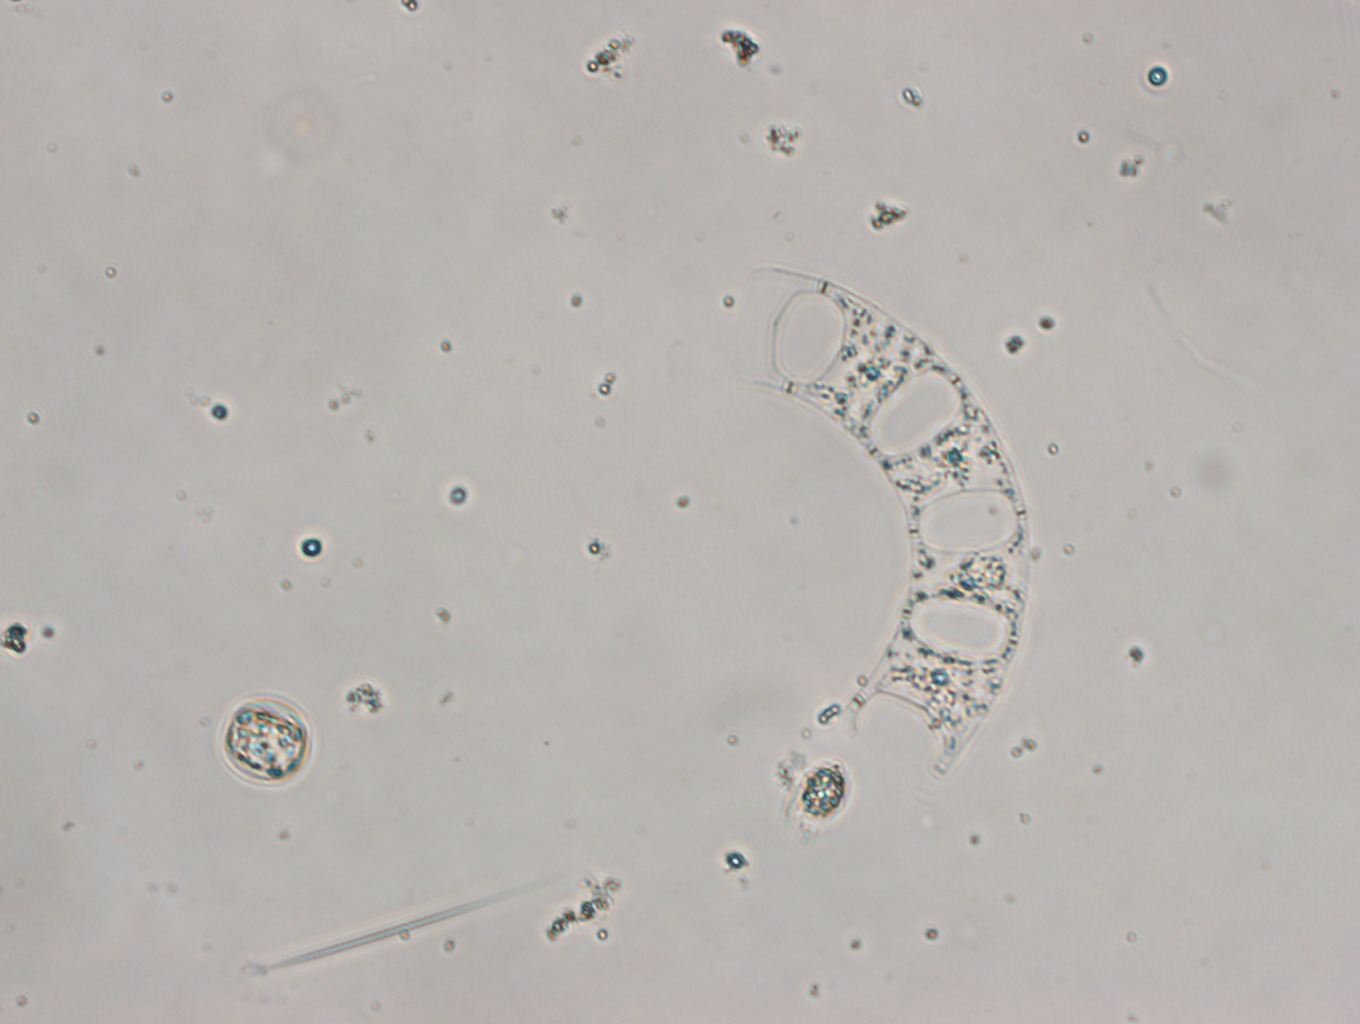eucampia: (725, 262, 1028, 785)
